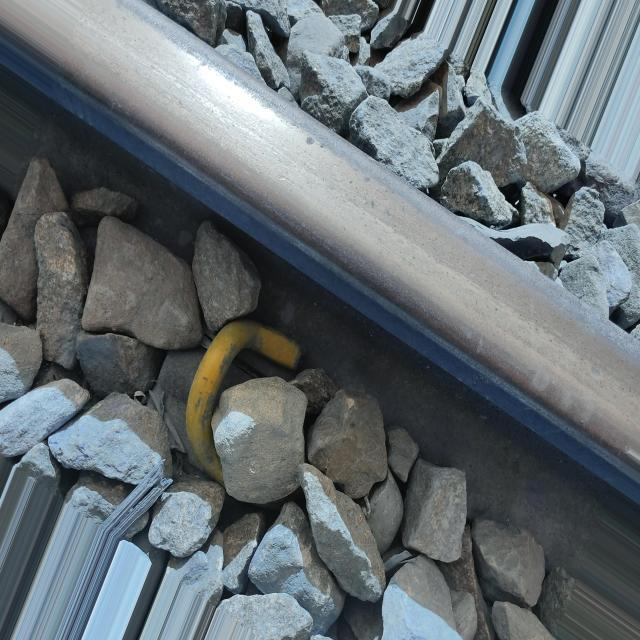Good Joint: (153, 319, 301, 484)
